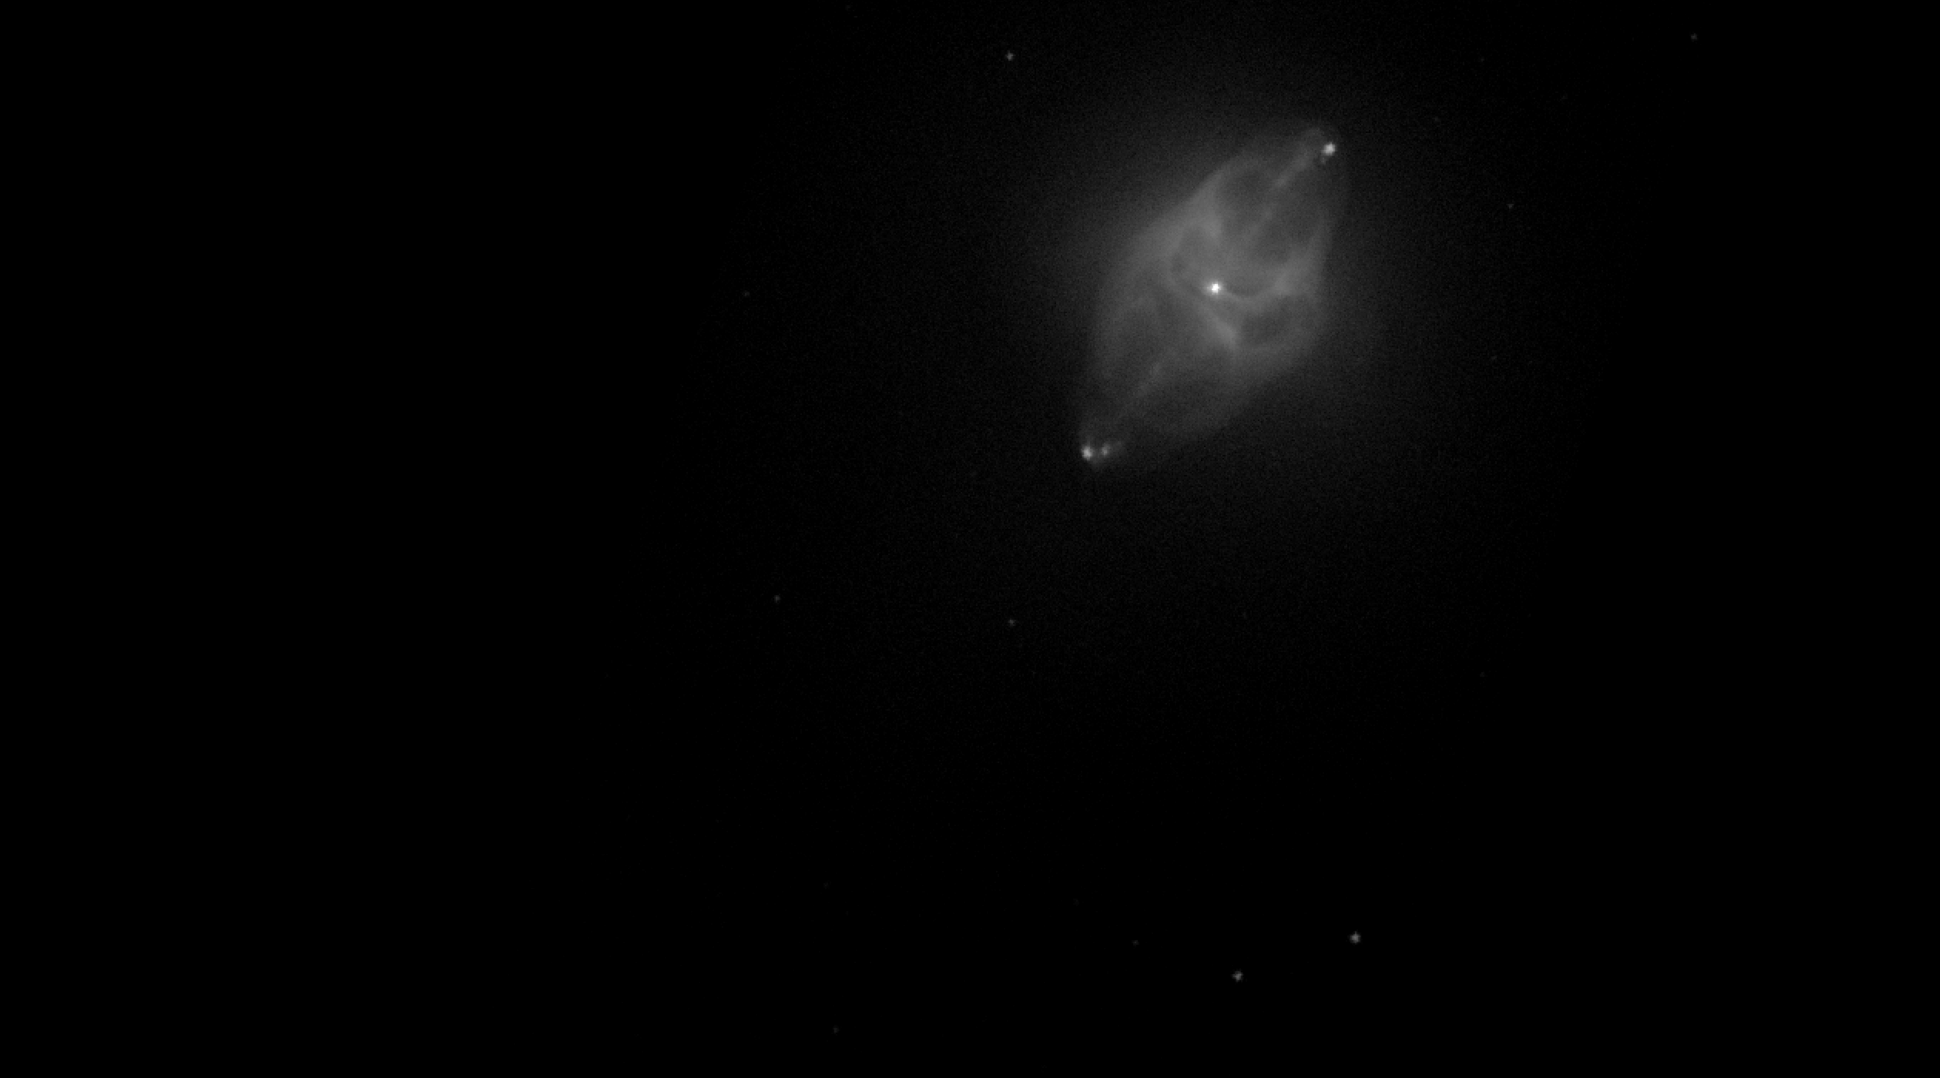Cavity: (1132, 339, 1233, 421), (1119, 252, 1193, 343), (1219, 212, 1292, 297), (1111, 304, 1168, 408), (1212, 165, 1281, 239), (1231, 289, 1319, 346), (1274, 161, 1326, 240), (1168, 222, 1215, 284)
Galaxy: (1075, 118, 1361, 485)
